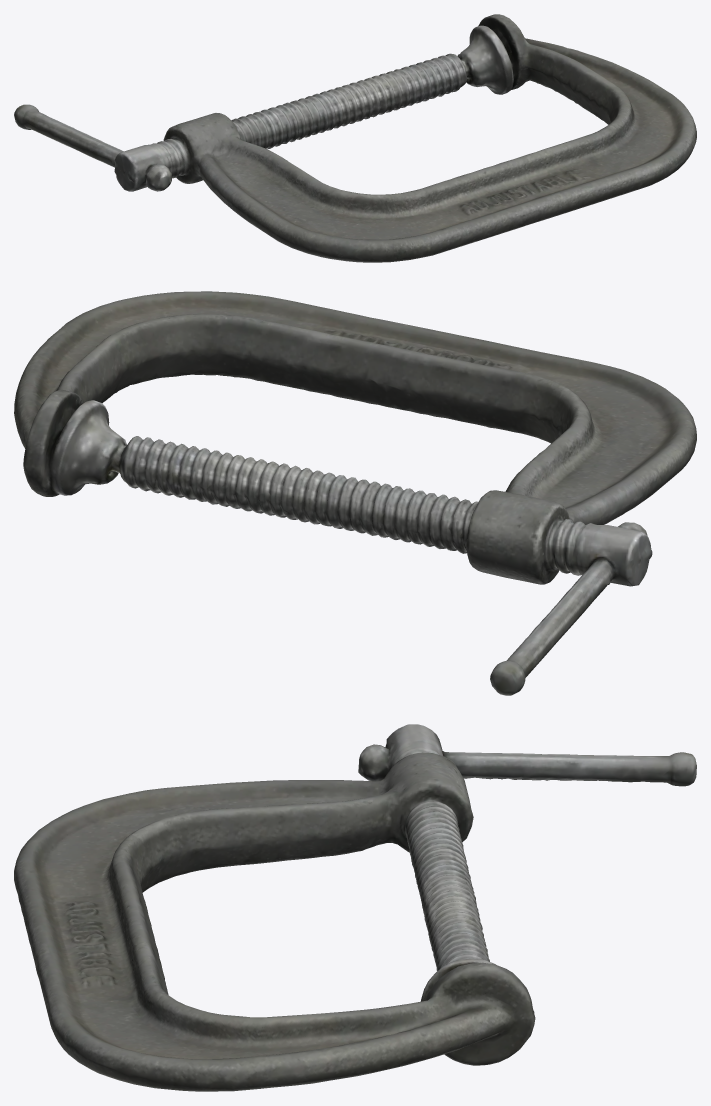
Rendered from Pony_C_Clamp_1440.glb.
3 views of the same model, one above another, from view 1: azimuth 30°, elevation 25°; view 2: azimuth 150°, elevation 25°; view 3: azimuth 270°, elevation 25° (orthographic). The views are drawn at different scales.
Parts seen in each view (by area): view 1: Pony_C_Clamp_1440; view 2: Pony_C_Clamp_1440; view 3: Pony_C_Clamp_1440.
Boxes of the visible parts, box(x1,y1,x2,y2) form: Pony_C_Clamp_1440: box(14, 14, 696, 262); Pony_C_Clamp_1440: box(14, 291, 696, 695); Pony_C_Clamp_1440: box(14, 724, 696, 1091).
Size of the model in its own units: 0.2022 by 0.0274 by 0.1728.
1 material, 1 textured.
